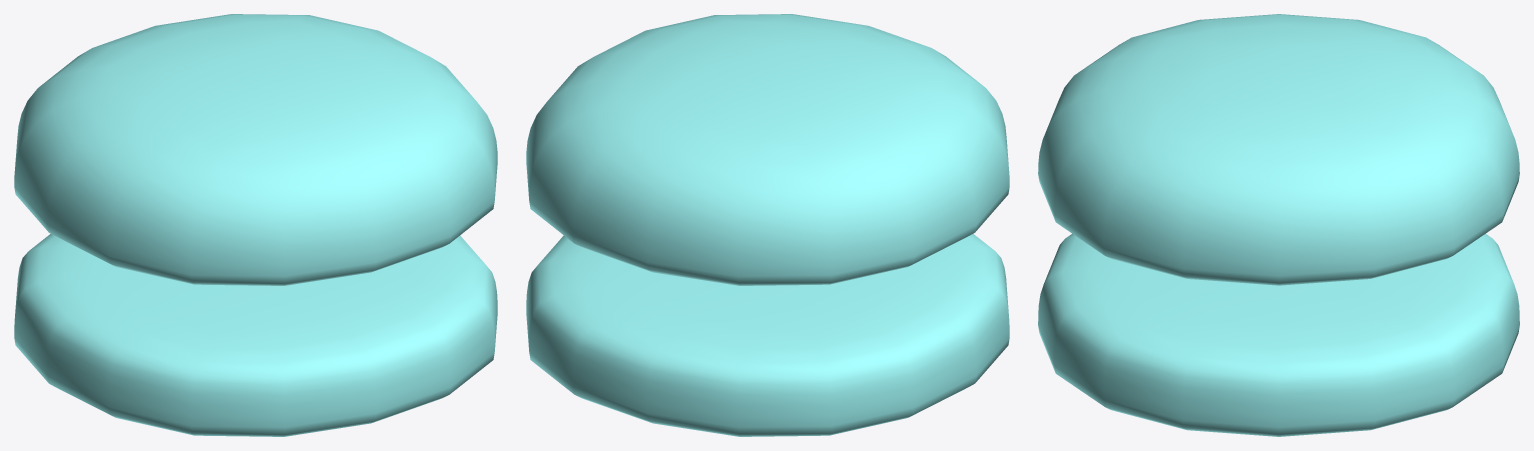
The model's file is brioch.gltf.
3 renders of one model, left to right at view 1: azimuth 30°, elevation 25°; view 2: azimuth 150°, elevation 25°; view 3: azimuth 270°, elevation 25°, orthographic.
Parts seen in each view (by area): view 1: Cube.001, Cube.002; view 2: Cube.001, Cube.002; view 3: Cube.001, Cube.002.
Boxes of the visible parts, x1=… form: Cube.001: x1=14, y1=14, x2=497, y2=285; Cube.002: x1=14, y1=234, x2=497, y2=436; Cube.001: x1=526, y1=14, x2=1009, y2=285; Cube.002: x1=526, y1=234, x2=1009, y2=436; Cube.001: x1=1038, y1=14, x2=1519, y2=285; Cube.002: x1=1038, y1=233, x2=1519, y2=436.
Bounding box in the file's own units: 1.83 × 1.16 × 1.83.
